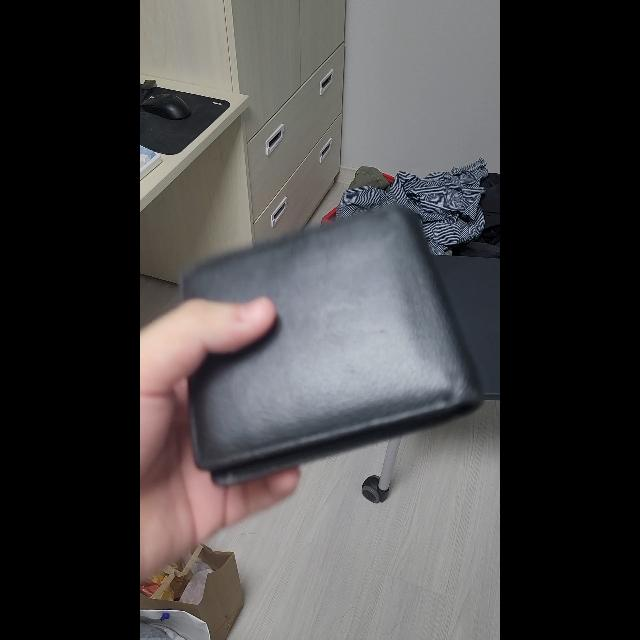WALLET: (180, 205, 484, 487)
